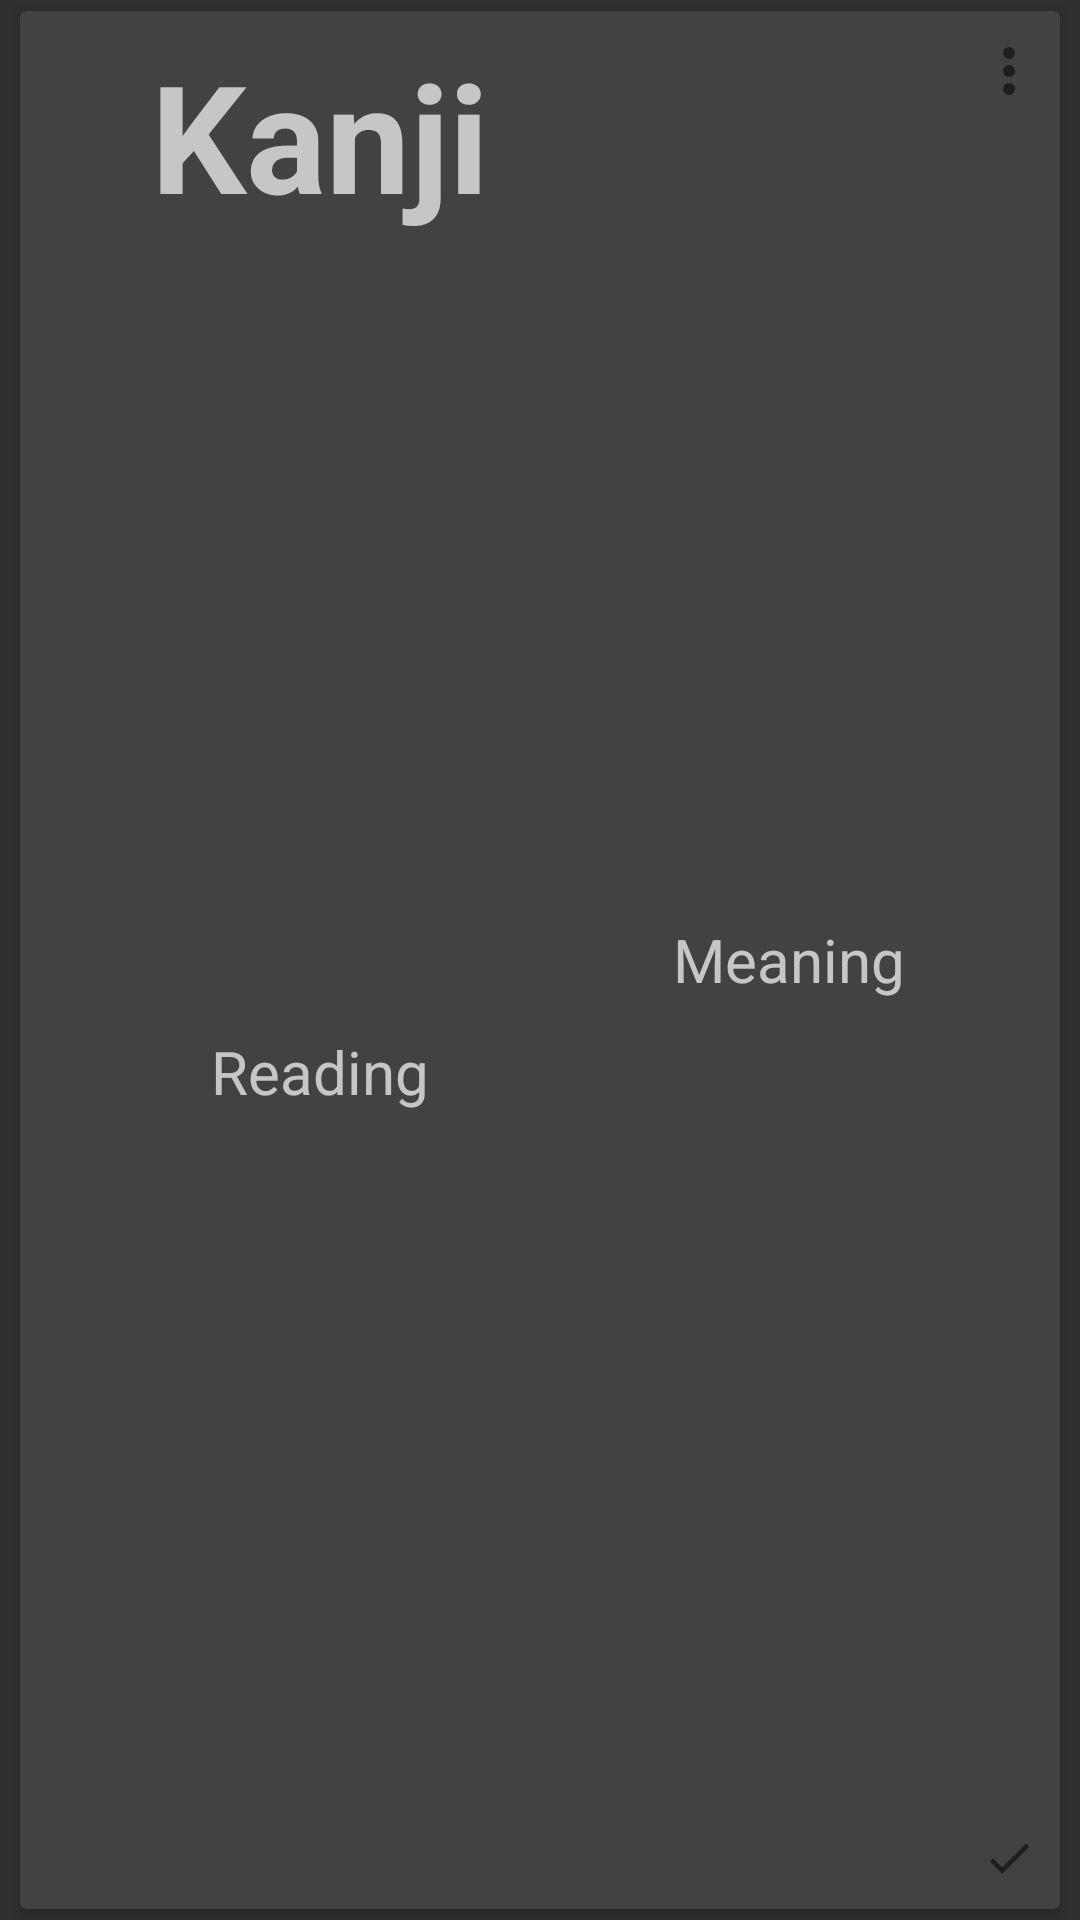

Icon bounding boxes for this 1080w x 1920h phone screenshot, format (x1, y1, x2, y2):
check: (990, 1844, 1029, 1873)
overflow: (1003, 47, 1015, 95)
